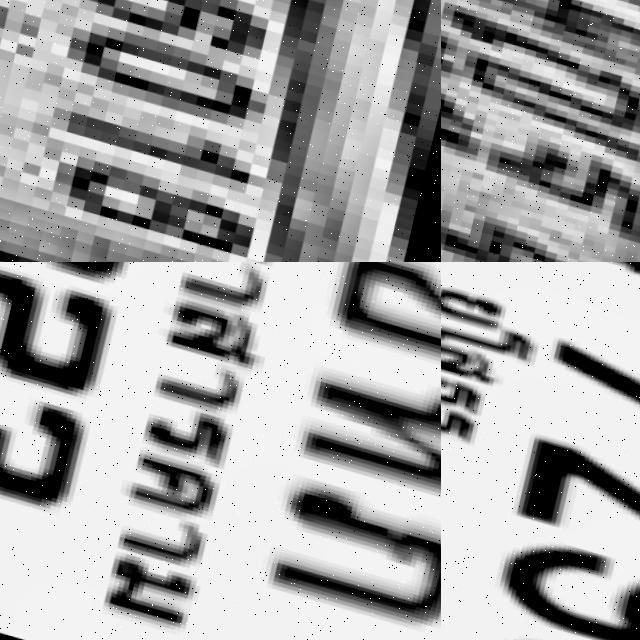license-plate: (0, 262, 441, 640), (0, 0, 441, 262), (441, 262, 640, 640), (441, 0, 640, 262)
